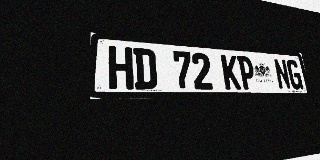2: (191, 52, 213, 89)
7: (171, 51, 194, 89)
D: (133, 48, 157, 89)
G: (286, 59, 304, 89)
H: (108, 46, 134, 89)
K: (221, 54, 241, 89)
N: (273, 58, 291, 89)
P: (237, 56, 257, 89)
